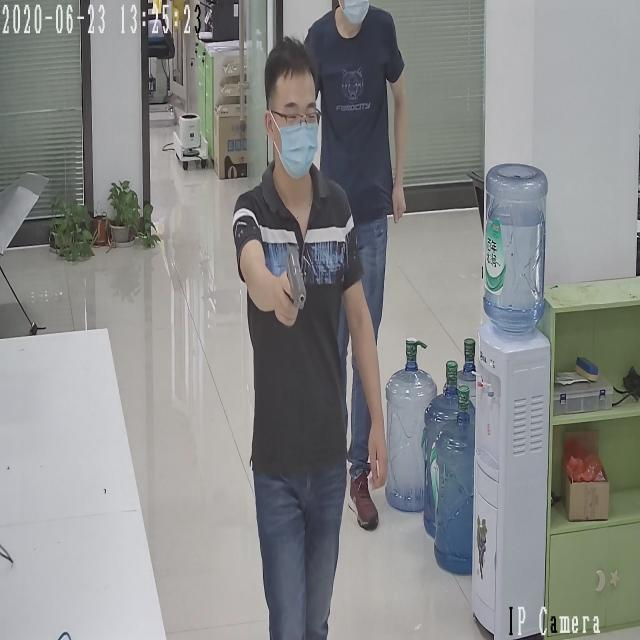gun-knife-thesis - v11 Yolov5 augmented: (272, 246, 308, 330)
